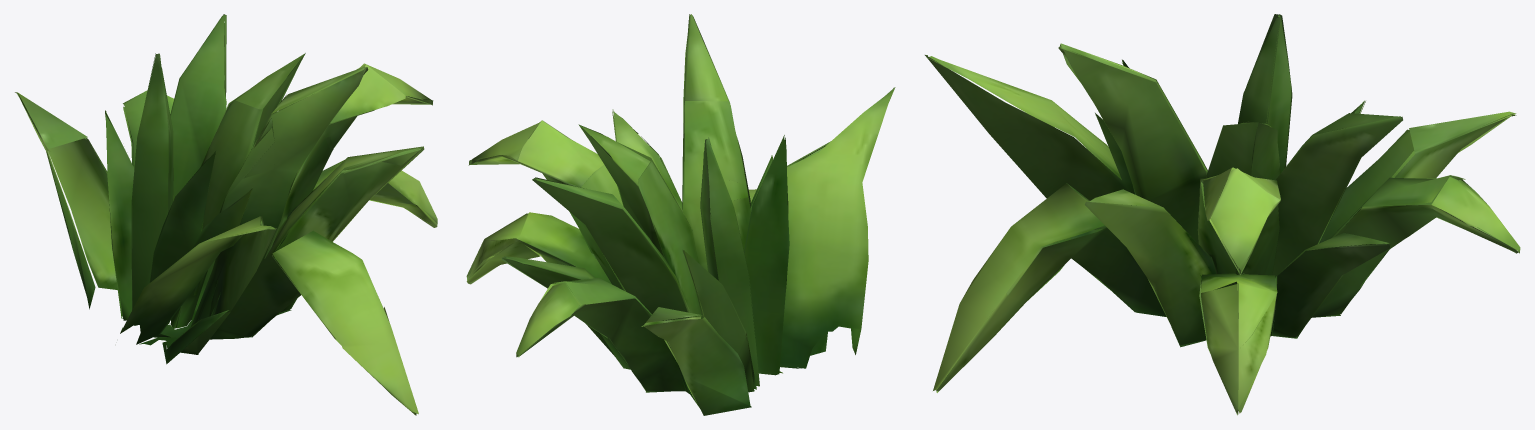
Rendered from grass_gen_g.glb.
3 views of the same model, side by side, from view 1: azimuth 30°, elevation 25°; view 2: azimuth 150°, elevation 25°; view 3: azimuth 270°, elevation 25° (orthographic). The views are drawn at different scales.
Visible parts, largest first — view 1: grass_gen.006; view 2: grass_gen.006; view 3: grass_gen.006.
Part boxes in pixels (left/top/right/bottom): grass_gen.006: left=15, top=14, right=437, bottom=415; grass_gen.006: left=466, top=14, right=895, bottom=415; grass_gen.006: left=925, top=14, right=1520, bottom=415.
Size of the model in its own units: 1.84 by 1.51 by 2.32.
Materials: 1 (1 with a texture image).
